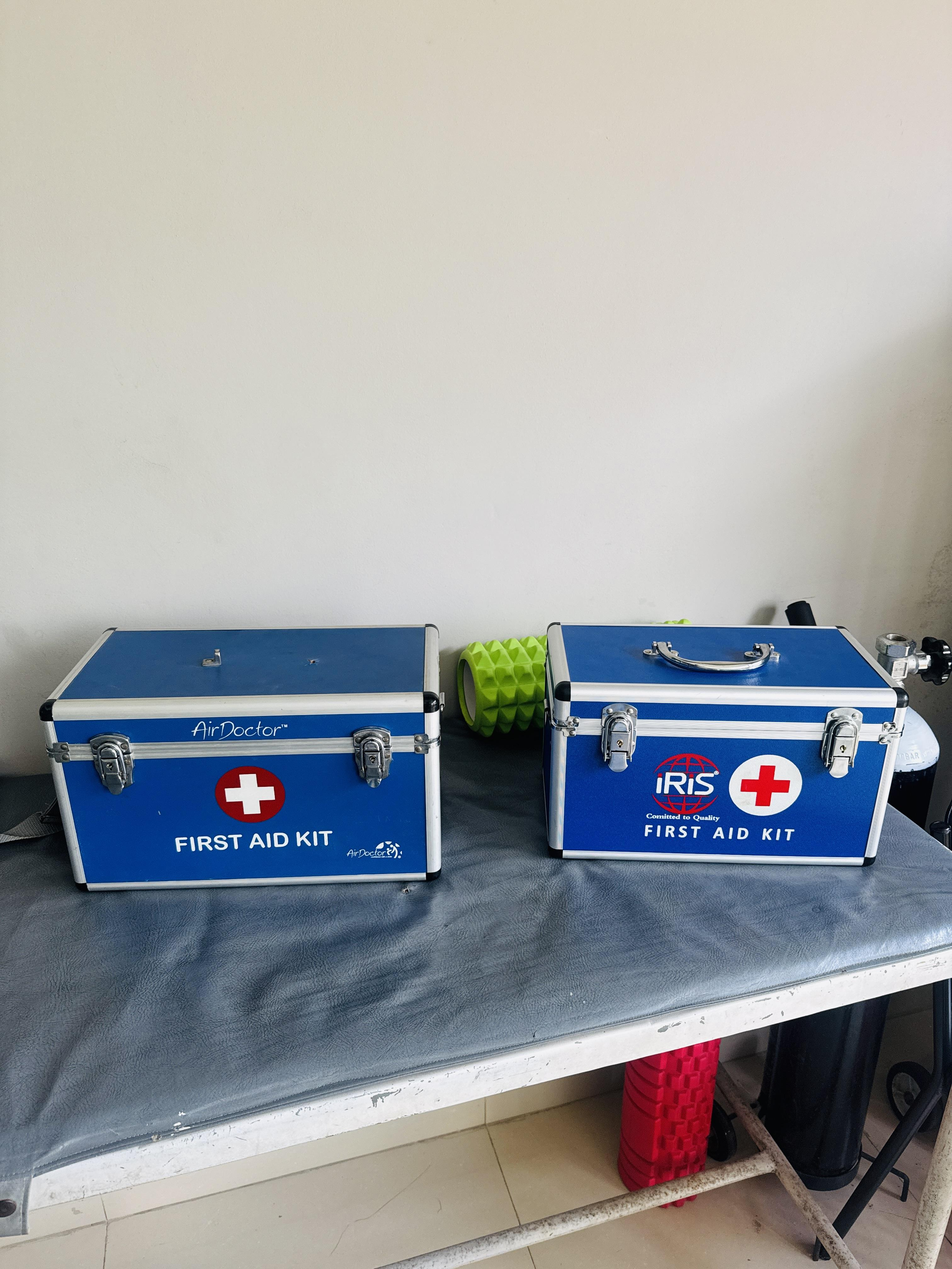FirstAidBox: (19, 604, 455, 901), (537, 596, 918, 880)
